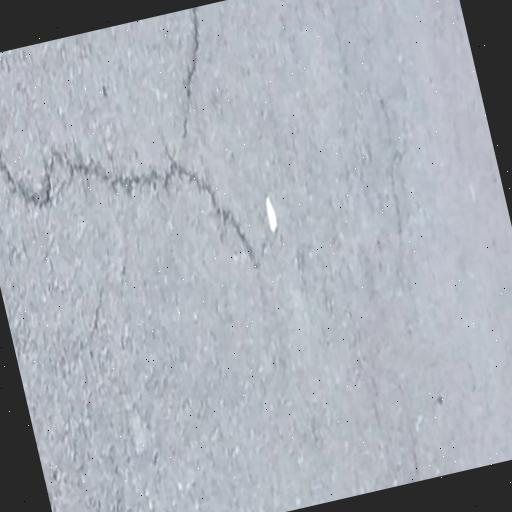spalling: (0, 140, 260, 272), (175, 14, 210, 142)
